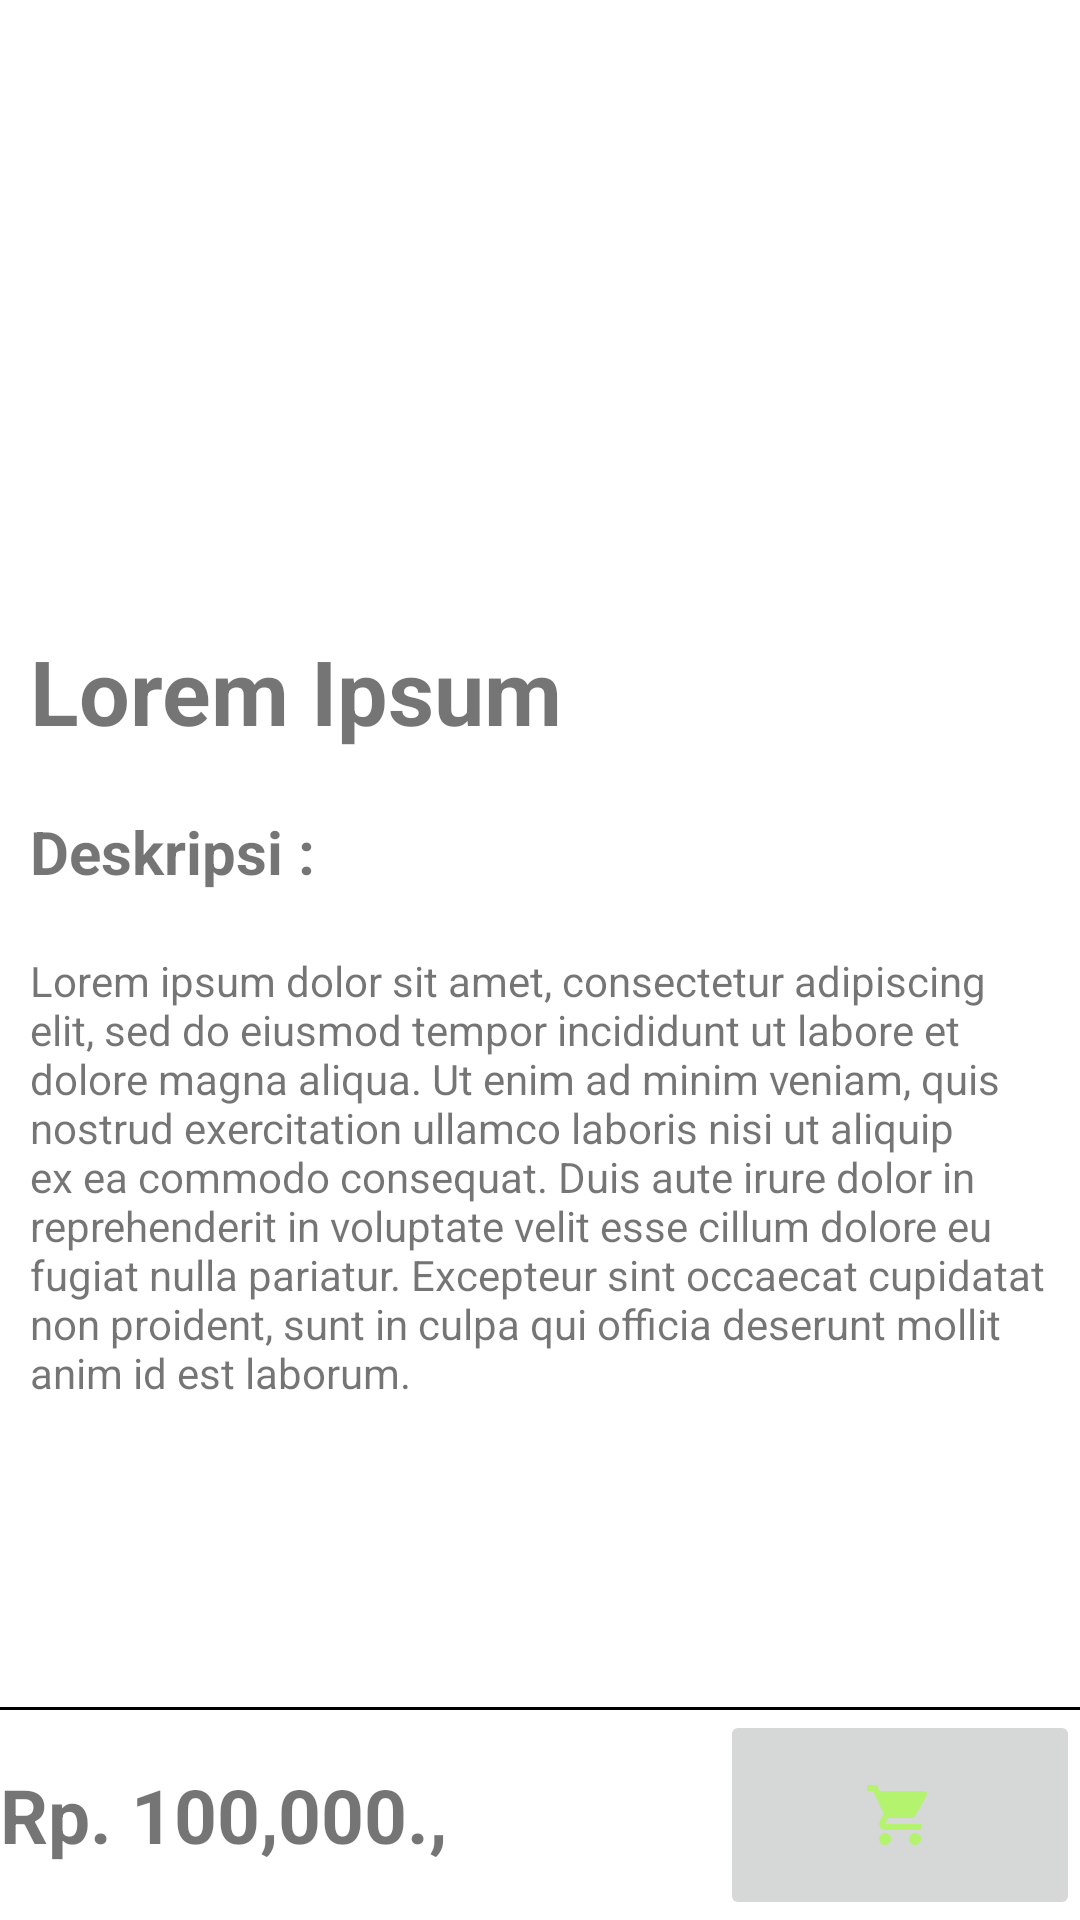

Icon bounding boxes for this 1080w x 1920h phone screenshot, format (x1, y1, x2, y2):
cart: (732, 1728, 1068, 1902)
